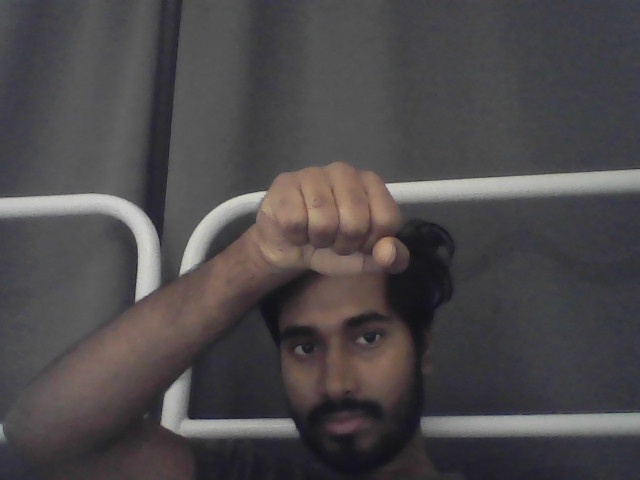yes: (256, 162, 411, 280)
